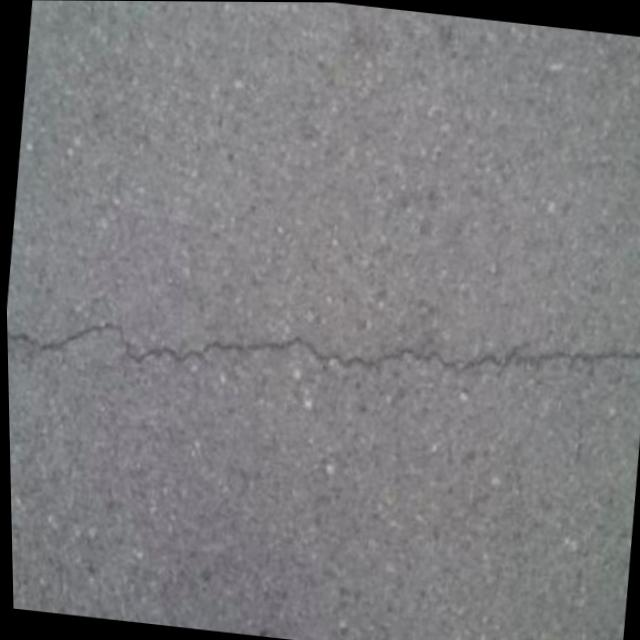Crack: (117, 308, 302, 386), (5, 305, 116, 361)
